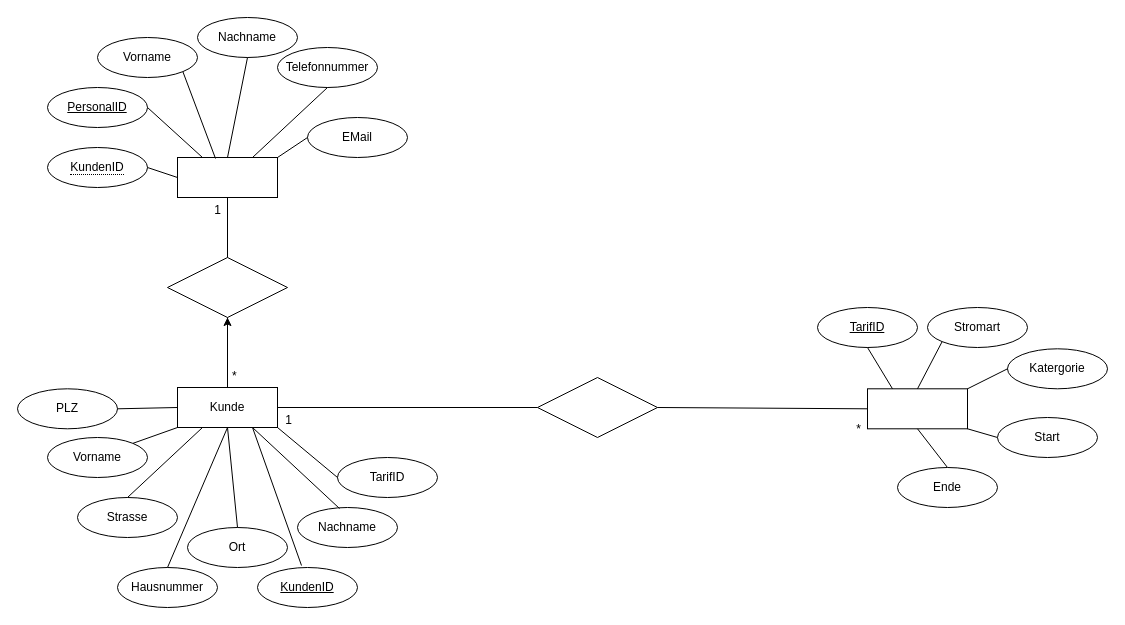
The diagram is 1125 pixels wide and 625 high, and some of its shapes have lost their labels. Each missing label, with the centre of its shape:
Ansprechparntner: the point at 227,177
besitzt: the point at 597,407
Stromtarif: the point at 917,408
wird betreut von: the point at 227,287
